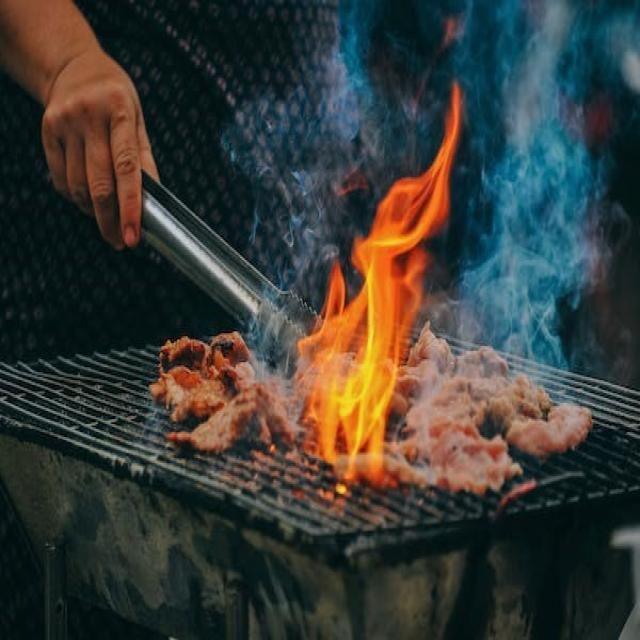Fire: (288, 81, 466, 484)
Smoke: (463, 83, 640, 403), (320, 0, 640, 79), (246, 207, 286, 385)
